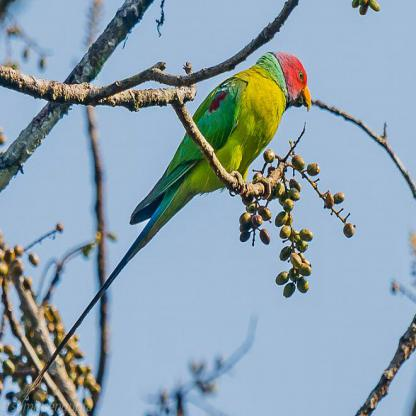Burung: (23, 51, 310, 398)
